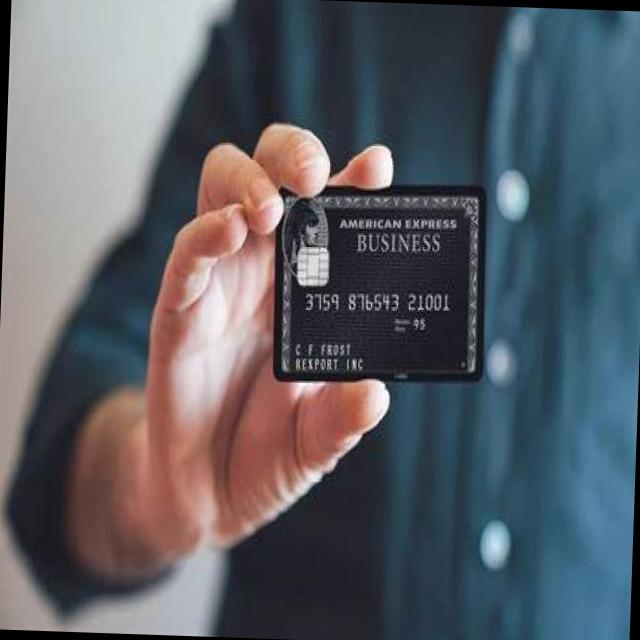card: (258, 180, 499, 384)
